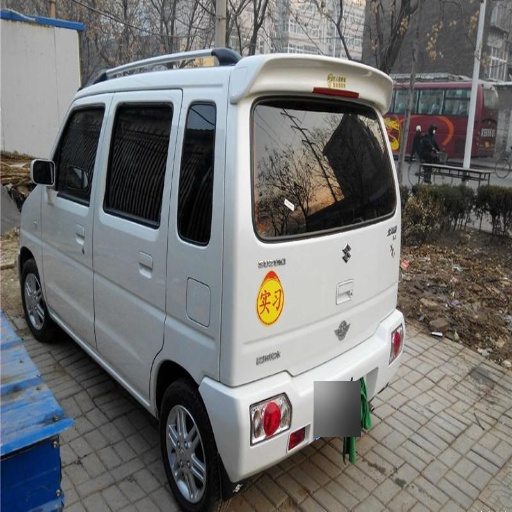back_bumper: (210, 323, 392, 476)
back_glass: (272, 96, 375, 154)
trunk: (112, 228, 358, 385)
